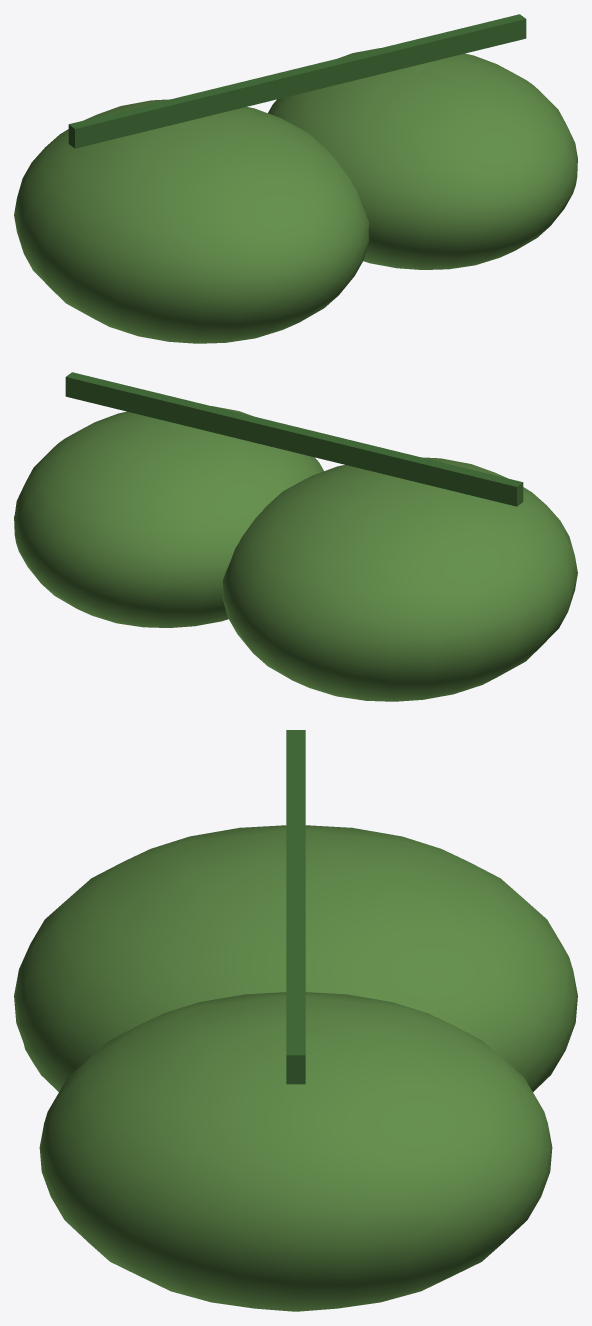
Rendered from f10-ridge-rolling-meadow.glb.
The picture shows the model from 3 angles, top to bottom: view 1: azimuth 30°, elevation 25°; view 2: azimuth 150°, elevation 25°; view 3: azimuth 270°, elevation 25°; orthographic projection. The views are drawn at different scales.
Visible parts, largest first — view 1: part0, part1, part2; view 2: part0, part1, part2; view 3: part1, part0, part2.
Part boxes in pixels (x1,y1,x2,y2): part0: [14, 99, 369, 343]; part1: [268, 48, 577, 269]; part2: [68, 14, 526, 148]; part0: [222, 457, 577, 701]; part1: [14, 406, 323, 627]; part2: [65, 372, 523, 506]; part1: [39, 992, 552, 1311]; part0: [14, 825, 577, 1091]; part2: [286, 730, 305, 1084].
Bounding box in the file's own units: 67998 × 27750 × 43967.
